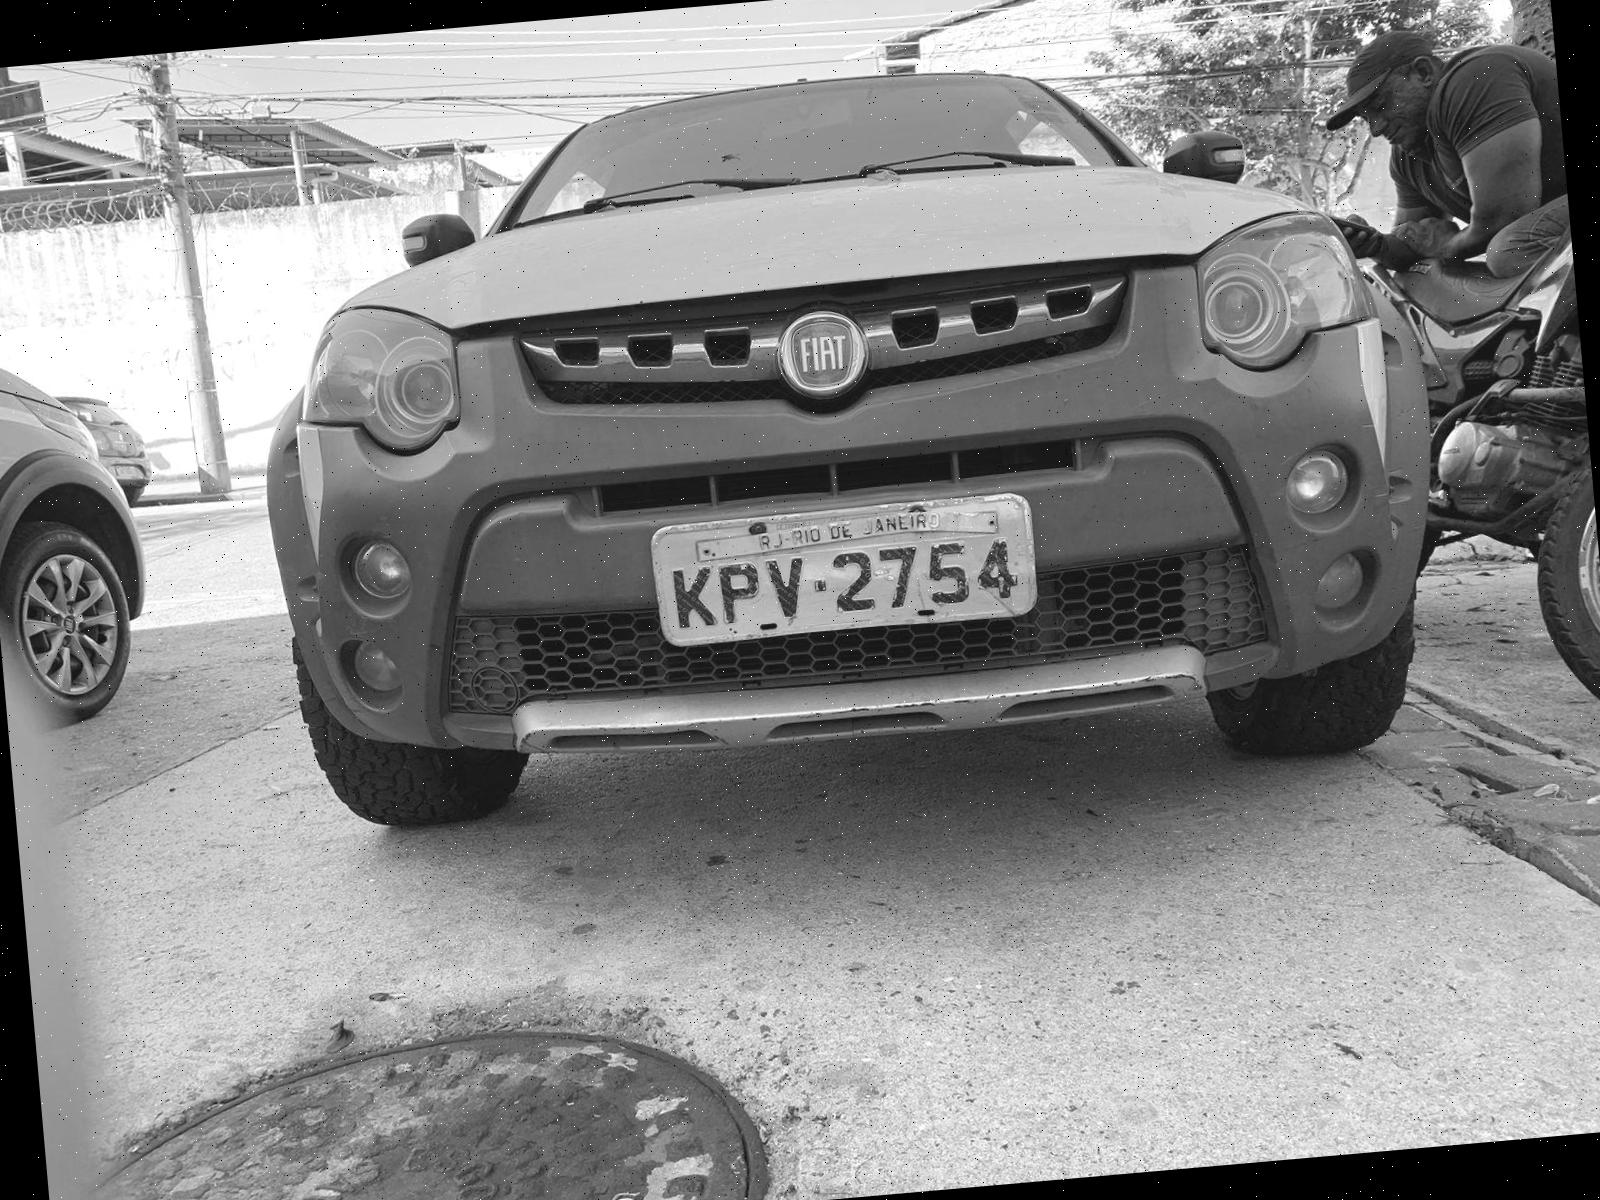placa_antiga: (653, 494, 1036, 646)
